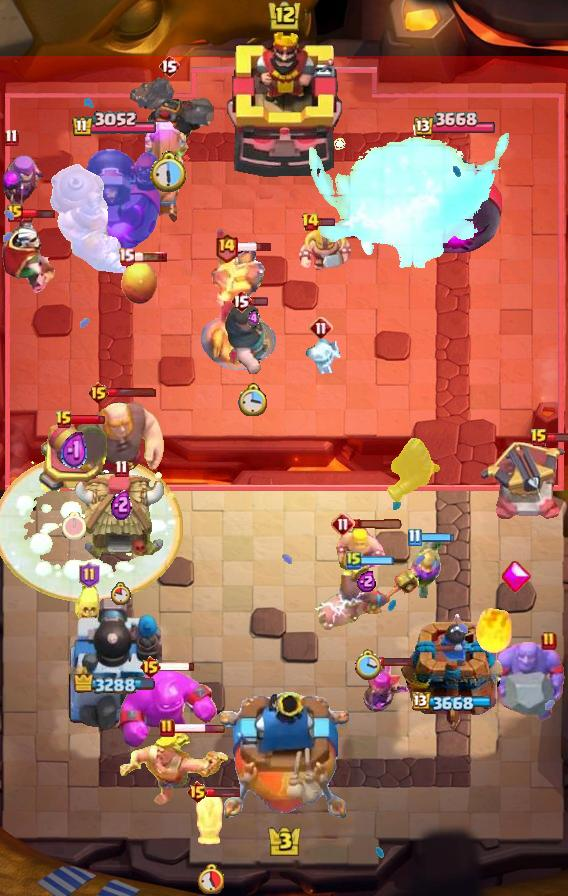archer: (330, 526, 390, 572)
archer-evolution: (124, 74, 214, 154)
archer-queen: (490, 641, 568, 723)
balloon: (61, 398, 167, 496)
bat: (298, 332, 344, 376)
bat-evolution: (74, 581, 104, 627)
battle-healer: (144, 121, 190, 225)
bomb-tower: (386, 437, 442, 503), (404, 534, 444, 598)
clone: (111, 668, 219, 750)
electro-dragon: (200, 246, 278, 374)
electro-spirit: (61, 431, 88, 472), (112, 488, 133, 520), (357, 570, 377, 592), (247, 310, 259, 328)
elixir: (151, 151, 190, 193), (238, 384, 268, 417), (354, 649, 381, 681), (196, 863, 223, 894), (62, 512, 86, 540), (111, 582, 131, 605)
emote: (172, 722, 226, 734), (107, 386, 157, 398), (352, 518, 404, 529), (20, 207, 55, 220), (235, 241, 272, 253), (132, 251, 168, 263), (70, 414, 106, 426), (360, 554, 396, 566), (206, 786, 241, 798), (159, 661, 196, 672), (378, 656, 414, 667), (421, 532, 456, 543), (546, 432, 568, 443), (250, 297, 269, 308), (317, 217, 336, 227)
evolution-symbol: (358, 658, 410, 730)
executioner: (194, 789, 226, 849)
freeze: (314, 562, 420, 632)
goblin-giant: (298, 224, 352, 272)
goblin-hut: (118, 730, 244, 808)
hog: (121, 258, 159, 306)
king-tower: (224, 29, 344, 181), (219, 692, 349, 826)
lava-pup: (480, 441, 568, 523)
mega-knight: (287, 120, 509, 294)
phoenix-big: (1, 454, 184, 603)
prince: (74, 472, 168, 562)
queen-tower: (401, 613, 505, 731)
rascal-girl: (0, 152, 46, 218)
royal-hog: (222, 301, 284, 375)
royal-recruit: (38, 424, 110, 498)
selected: (411, 112, 495, 140), (70, 111, 157, 138), (412, 691, 494, 713), (73, 674, 154, 696)
skeleton-king: (0, 215, 60, 301)
skeleton-king-skill: (501, 560, 533, 594)
text: (213, 233, 238, 264), (309, 316, 333, 340), (331, 512, 355, 536), (86, 381, 109, 405), (139, 655, 162, 679), (187, 780, 210, 804), (80, 562, 101, 588), (158, 54, 180, 78), (230, 289, 252, 313), (301, 212, 320, 232), (55, 410, 73, 430), (530, 428, 548, 448), (117, 246, 135, 265), (346, 550, 362, 570), (541, 631, 557, 651), (159, 718, 175, 738), (7, 204, 23, 222), (115, 458, 130, 477), (406, 528, 421, 547), (5, 129, 20, 147)
tower-bar: (66, 595, 162, 731), (62, 138, 166, 256), (403, 138, 503, 256)
valkyrie: (475, 600, 517, 656)
wizard: (47, 162, 129, 276)
